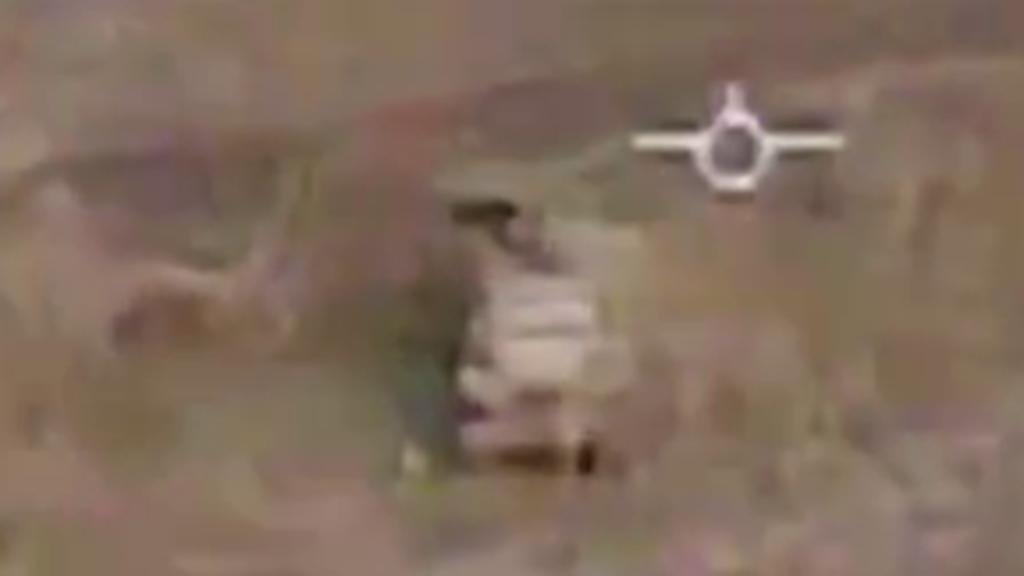MLRS: (420, 132, 618, 468)
